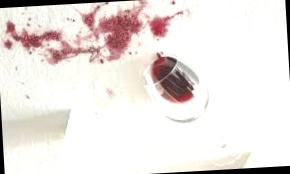wine: (84, 0, 177, 68), (4, 17, 81, 72)
